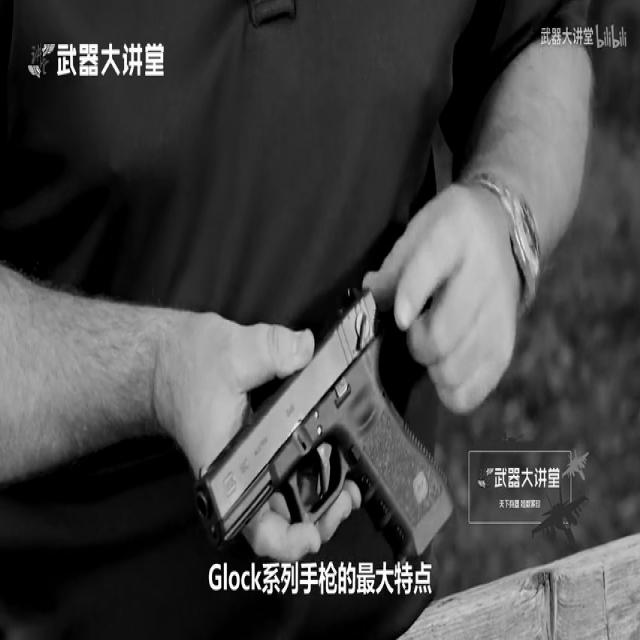Hand-Gun: (193, 201, 498, 640)
